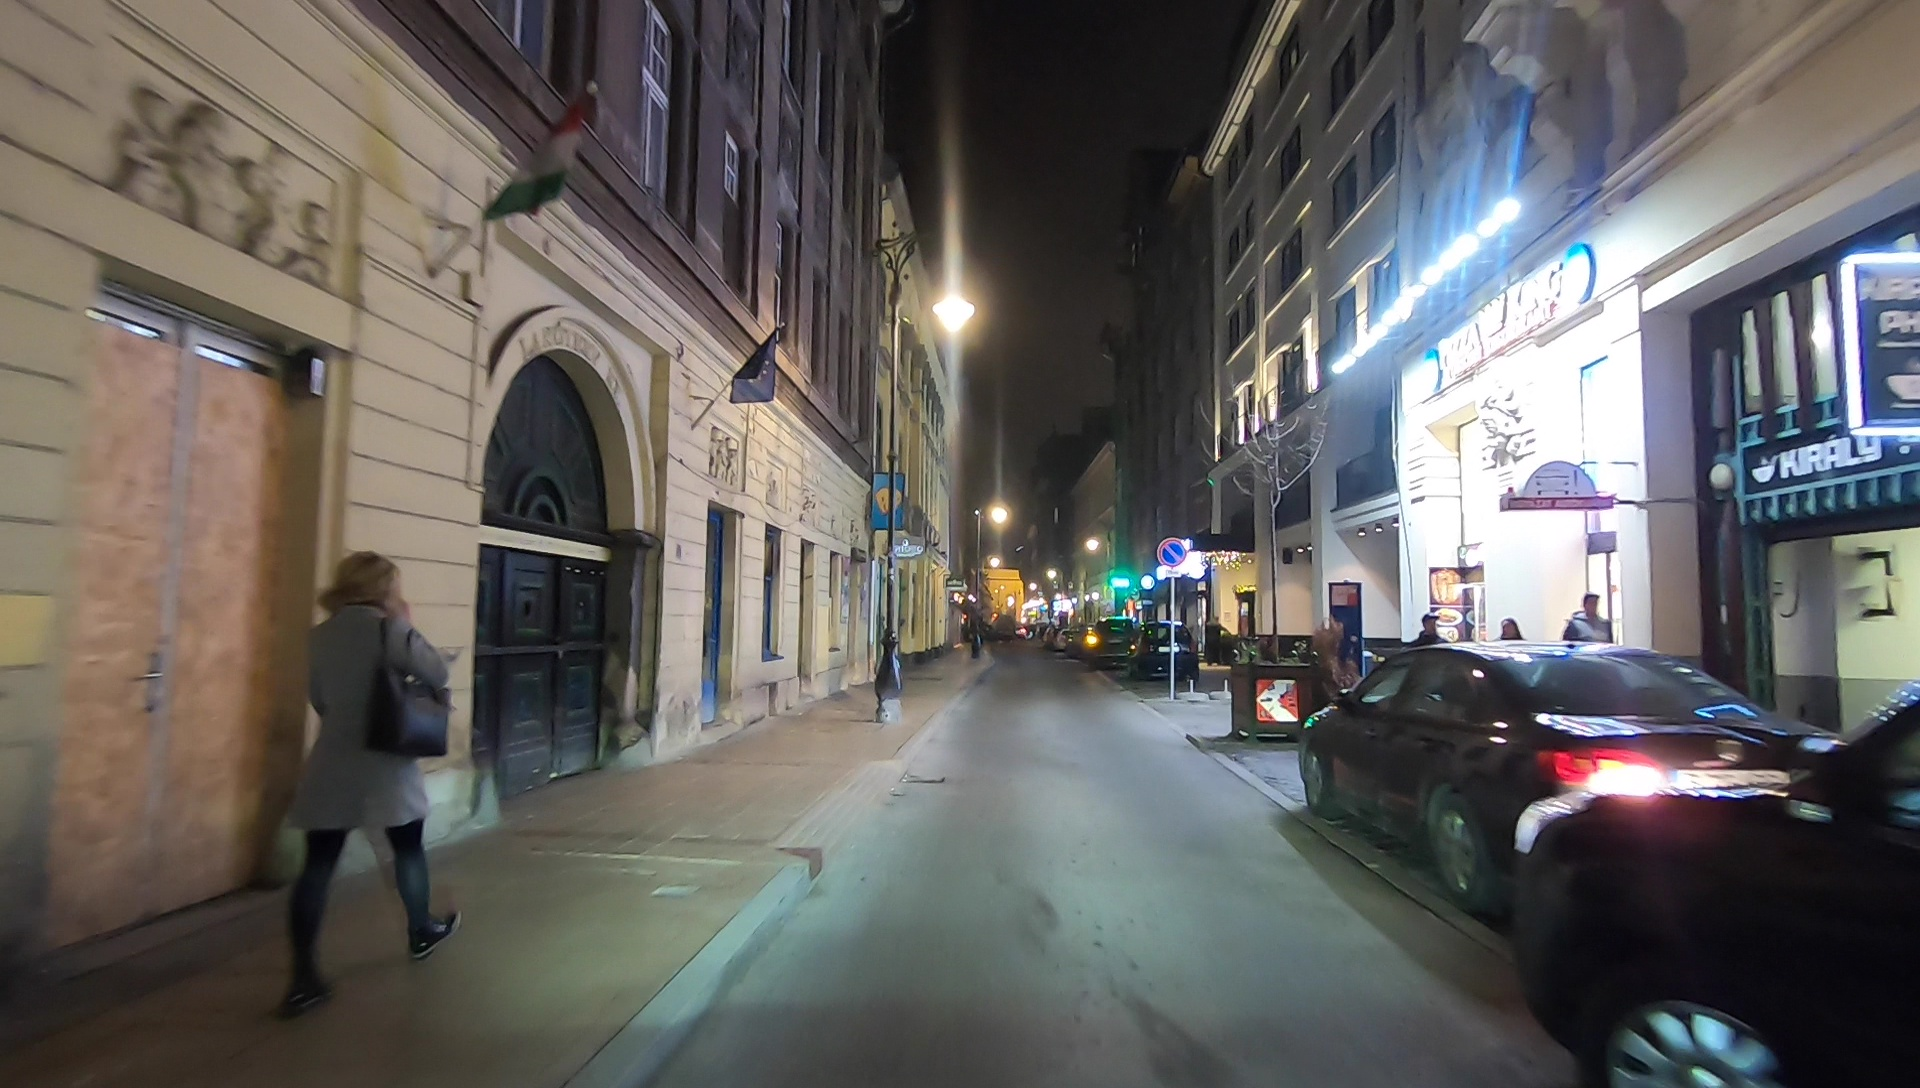person: (273, 552, 462, 1011)
